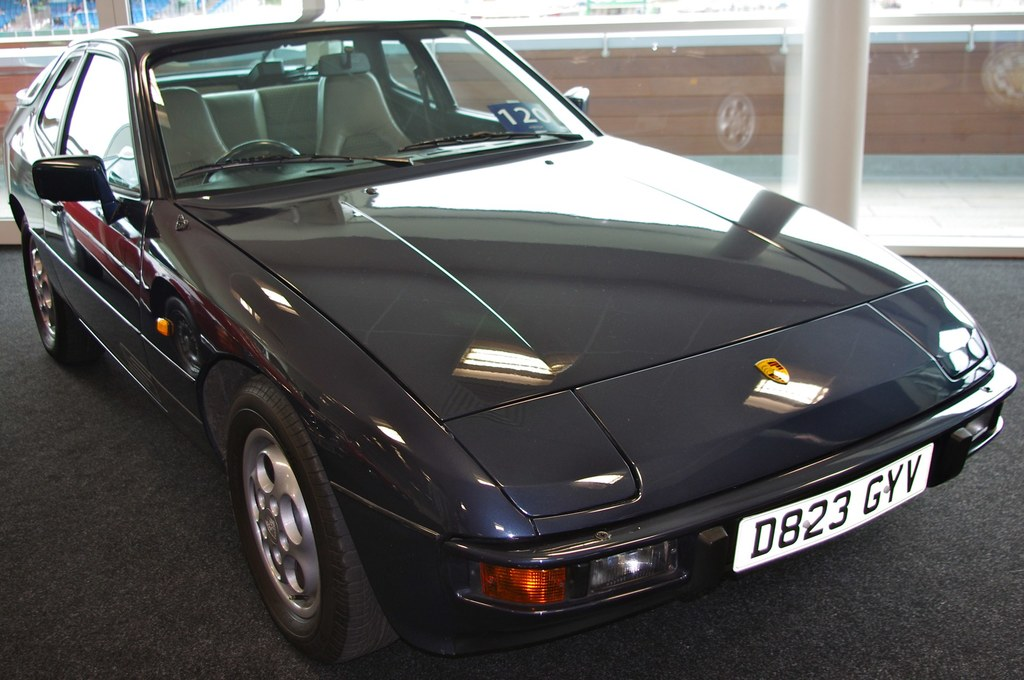car: (5, 20, 1024, 672)
